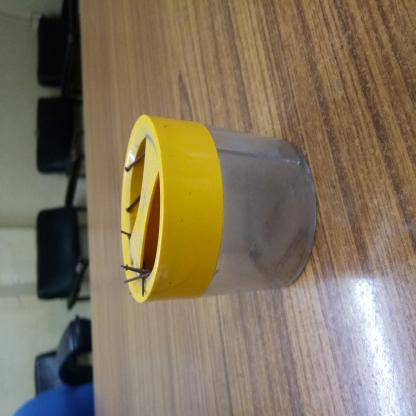bottle: (84, 159, 228, 416)
